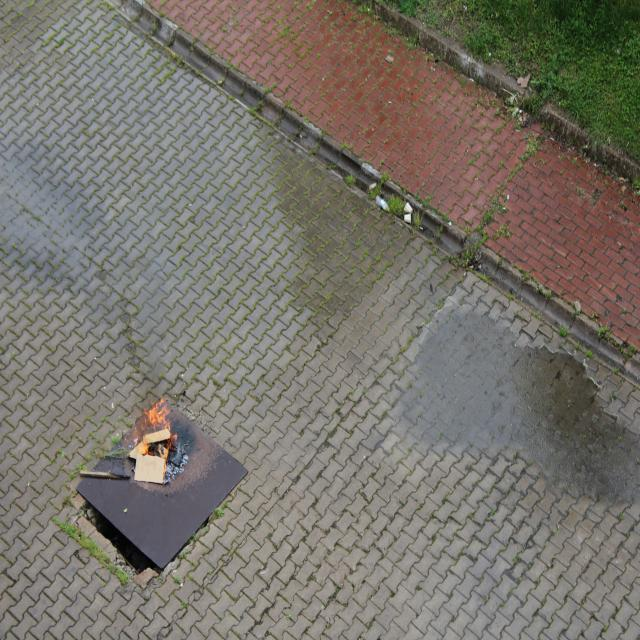fire: (140, 386, 174, 439)
